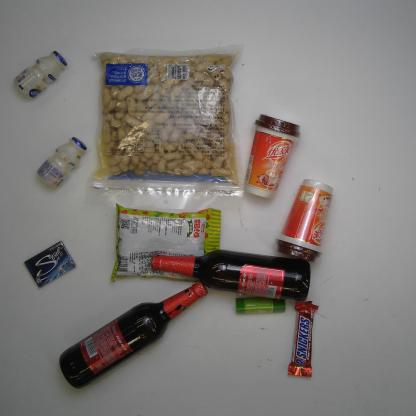Alcohol: (58, 281, 209, 390), (151, 248, 311, 302)
Chocolate: (288, 300, 319, 378)
Dried Food: (86, 43, 245, 211)
Gum: (24, 240, 77, 288)
Instant Drink: (243, 113, 302, 200), (275, 178, 334, 264)
Milk: (34, 136, 87, 190), (13, 50, 68, 100)
Puffed Food: (110, 202, 221, 283)
Stationery: (235, 297, 286, 315)
